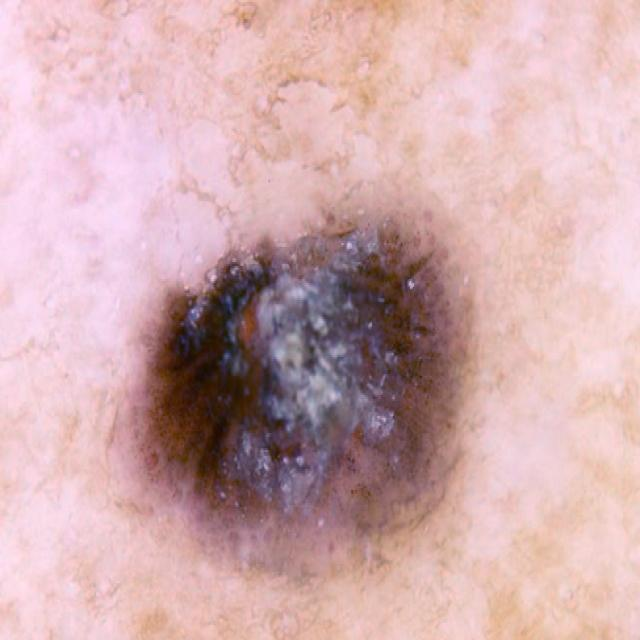Carcinoma: (131, 198, 511, 593)
